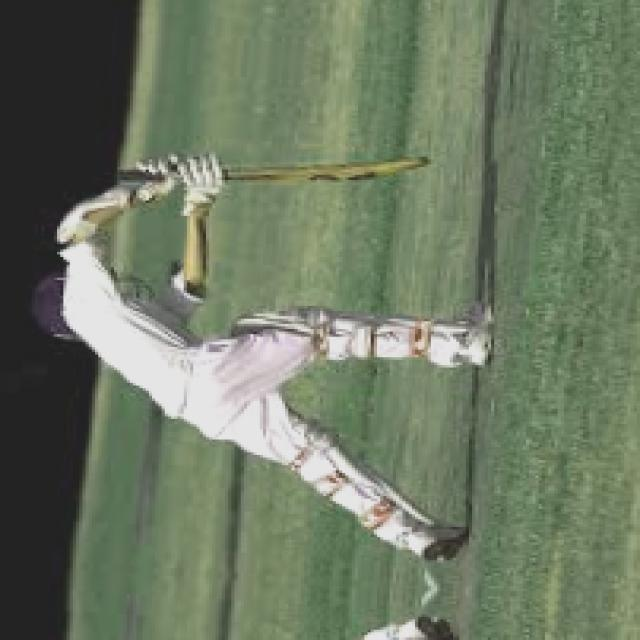bat: (205, 140, 487, 207)
toe: (406, 145, 438, 175)
